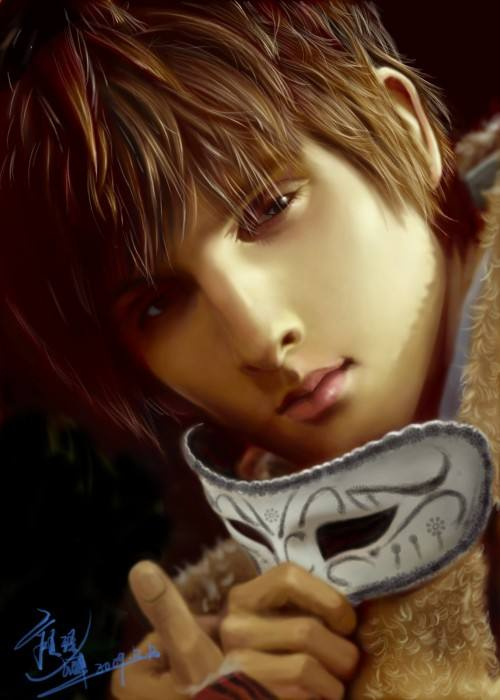person: (26, 29, 449, 605)
